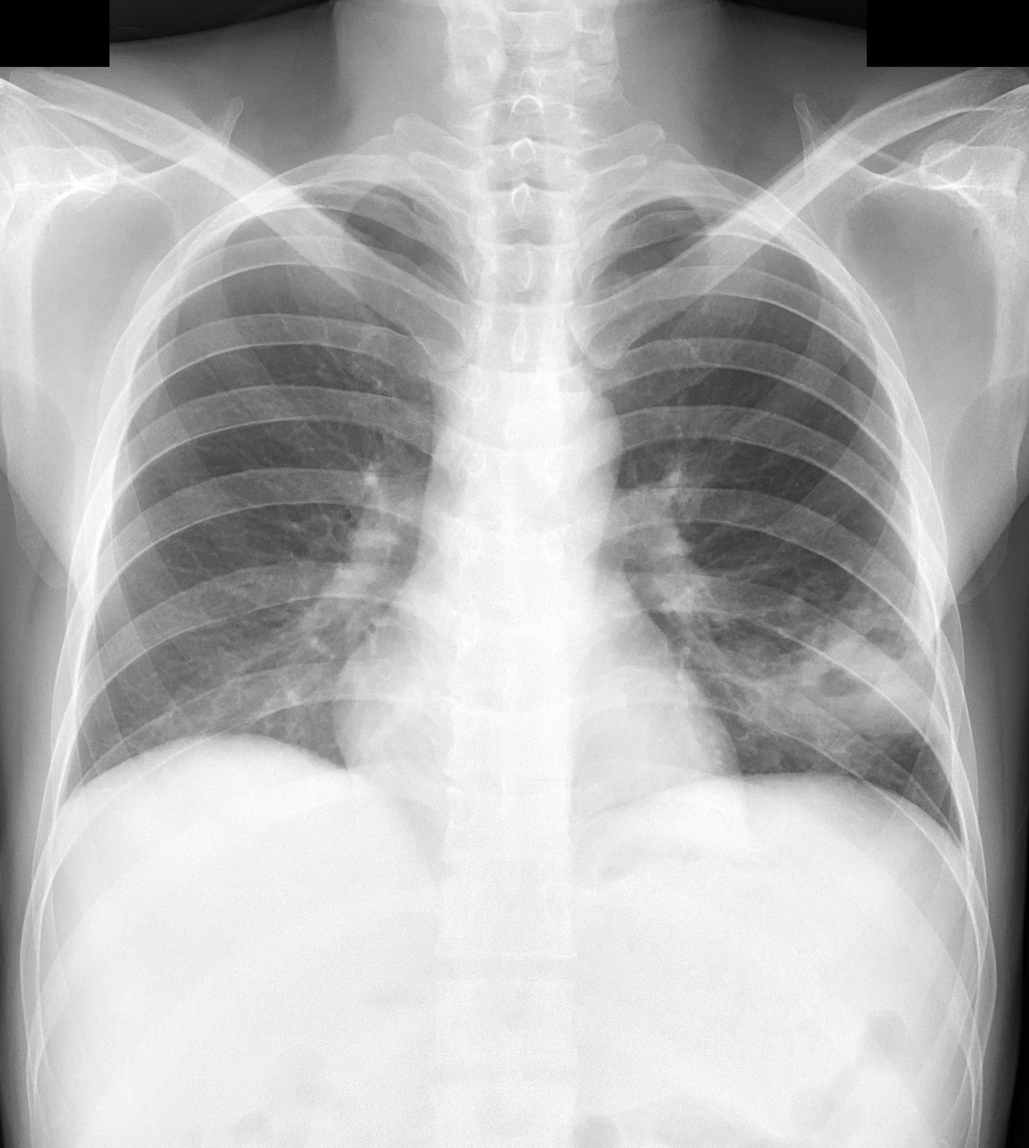Pleural thickening: (655, 196, 793, 244), (301, 178, 406, 196)
